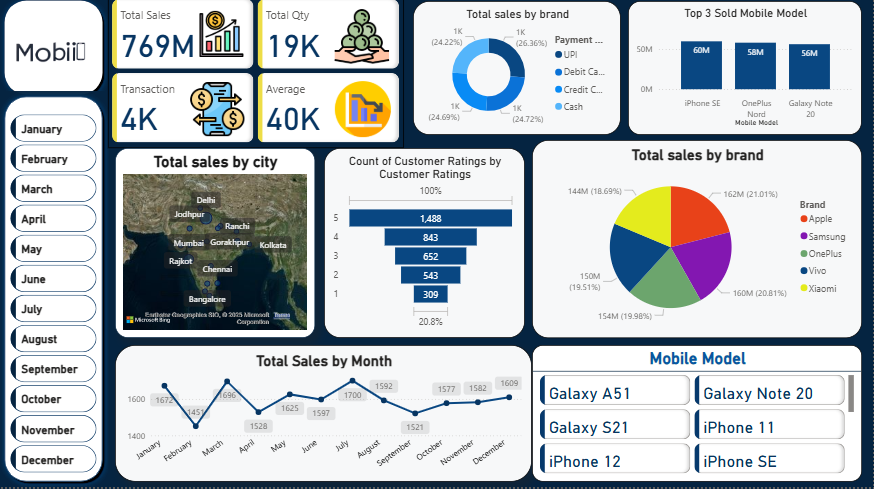

The page's visual inventory and layout, read from the dashboard file:
{"tool":"powerbi","page":{"name":"Page 1","canvas":[1280,720],"ordinal":0},"visuals":[{"type":"shape","box":[0,0,159.5,153.7],"z":0},{"type":"image","box":[0,16.1,143.4,153.7],"z":1000},{"type":"shape","box":[0,140.5,159.5,579.5],"z":2000},{"type":"advancedSlicerVisual","fields":{"Values":["sales_Data.Date.Variation.Date Hierarchy.Month"]},"box":[11.7,169.8,136.1,542.9],"z":3000},{"type":"cardVisual","fields":{"Data":["sales_Data.total_Sales","sales_Data.total_Qty","sales_Data.transaction","sales_Data.average"]},"box":[159.5,0,433.2,223.9],"z":4000},{"type":"map","title":"Total sales by city","fields":{"Category":["sales_Data.City"],"Size":["sales_Data.total_Sales"]},"box":[169.8,223.9,292.7,278],"z":5000},{"type":"lineChart","title":"Total Sales by Month","fields":{"Category":["sales_Data.Date.Variation.Date Hierarchy.Month","sales_Data.Date.Variation.Date Hierarchy.Day"],"Y":["sales_Data.total_Qty"]},"box":[169.8,512.2,610.2,200.5],"z":6000},{"type":"donutChart","title":"Total sales by brand","fields":{"Category":["sales_Data.Payment Method"],"Y":["sales_Data.transaction"]},"box":[605.9,8.8,304.4,196.1],"z":7000},{"type":"clusteredColumnChart","title":"Top 3 Sold Mobile Model","fields":{"Category":["sales_Data.Mobile Model"],"Y":["sales_Data.total_Sales"]},"box":[920.5,8.8,342.4,196.1],"z":8000},{"type":"pieChart","title":"Total sales by brand","fields":{"Category":["sales_Data.Brand"],"Y":["sales_Data.total_Sales"]},"box":[780,212.2,482.9,289.8],"z":9000},{"type":"funnel","fields":{"Category":["sales_Data.Customer Ratings"],"Y":["CountNonNull(sales_Data.Customer Ratings)"]},"box":[475.6,223.9,294.1,278],"z":10000},{"type":"advancedSlicerVisual","fields":{"Values":["sales_Data.Mobile Model"]},"box":[780,512.2,482.9,200.5],"z":10001}]}

Visuals, with their boxes in screenshot pixels (x1, y1, x2, y2), scaled from the page's 1280x720 canvas onto the 874x489 screenshot:
shape: BBox(0, 0, 109, 104)
image: BBox(0, 11, 98, 115)
shape: BBox(0, 95, 109, 488)
advancedSlicerVisual - sales_Data.Date.Variation.Date Hierarchy.Month: BBox(8, 115, 101, 484)
cardVisual - sales_Data.total_Sales x sales_Data.total_Qty: BBox(109, 0, 405, 152)
"Total sales by city" map: BBox(116, 152, 316, 341)
"Total Sales by Month" lineChart: BBox(116, 348, 533, 484)
"Total sales by brand" donutChart: BBox(414, 6, 622, 139)
"Top 3 Sold Mobile Model" clusteredColumnChart: BBox(629, 6, 862, 139)
"Total sales by brand" pieChart: BBox(533, 144, 862, 341)
funnel - sales_Data.Customer Ratings x CountNonNull(sales_Data.Customer Ratings): BBox(325, 152, 526, 341)
advancedSlicerVisual - sales_Data.Mobile Model: BBox(533, 348, 862, 484)
